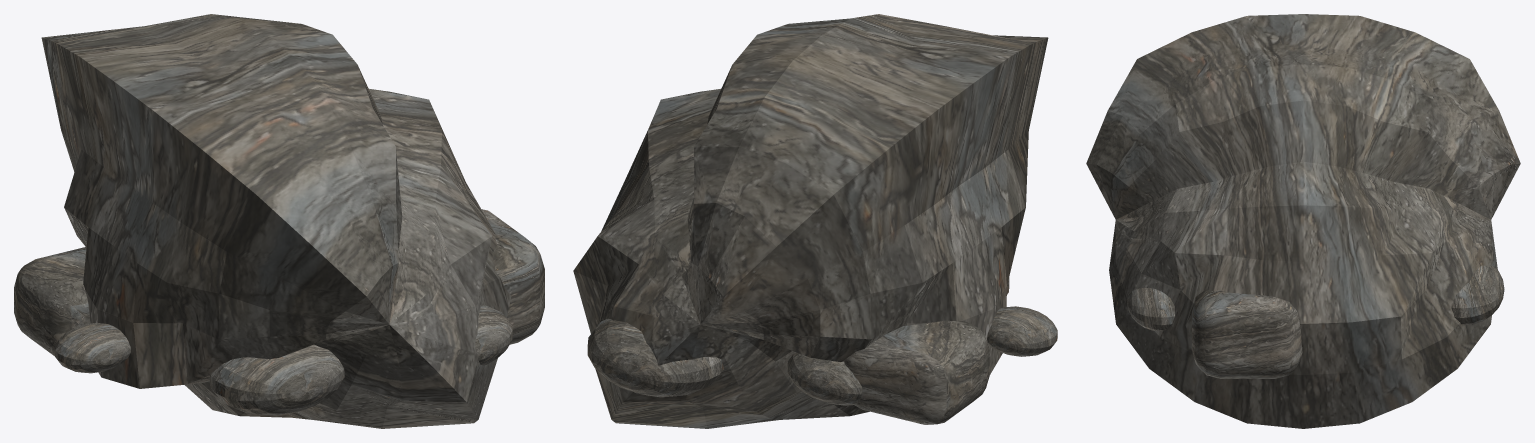
Rendered from rock_boulder.glb.
3 views of the same model, side by side, from view 1: azimuth 30°, elevation 25°; view 2: azimuth 150°, elevation 25°; view 3: azimuth 270°, elevation 25° (orthographic). The views are drawn at different scales.
Parts seen in each view (by area): view 1: BoulderMain, BoulderChip02, BoulderChunkB, BoulderChunkA, BoulderChip03, BoulderChip01; view 2: BoulderMain, BoulderChunkB, BoulderChip05, BoulderChip03, BoulderChip04; view 3: BoulderMain, BoulderChunkA, BoulderChip05, BoulderChip01.
Part boxes in pixels (x1,y1,x2,y2): BoulderMain: (41,14,511,428); BoulderChip02: (209,344,344,415); BoulderChunkB: (14,247,90,356); BoulderChunkA: (481,209,544,344); BoulderChip03: (55,323,130,373); BoulderChip01: (474,304,512,365); BoulderMain: (573,14,1048,428); BoulderChunkB: (844,320,989,424); BoulderChip05: (587,318,723,397); BoulderChip03: (987,306,1057,356); BoulderChip04: (787,352,862,405); BoulderMain: (1086,14,1520,428); BoulderChunkA: (1192,289,1302,378); BoulderChip05: (1451,265,1504,325); BoulderChip01: (1127,287,1174,330).
Size of the model in its own units: 7.06 by 6.06 by 7.8.
1 material, 1 textured.
